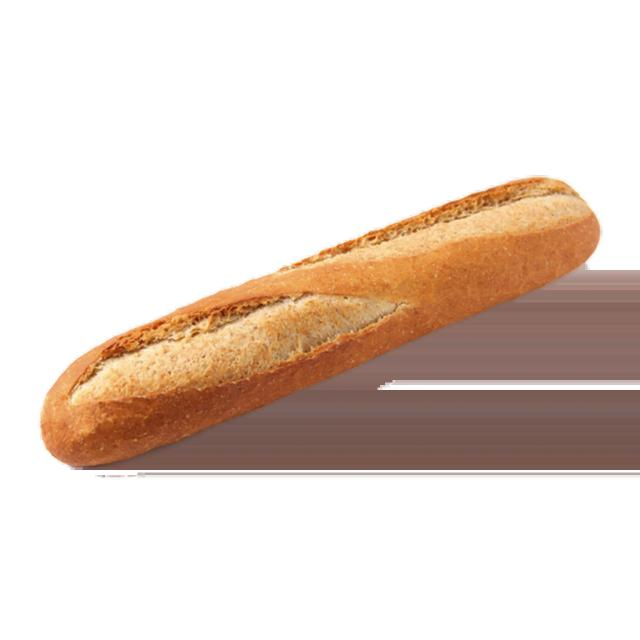Baguette: (41, 178, 600, 466)
